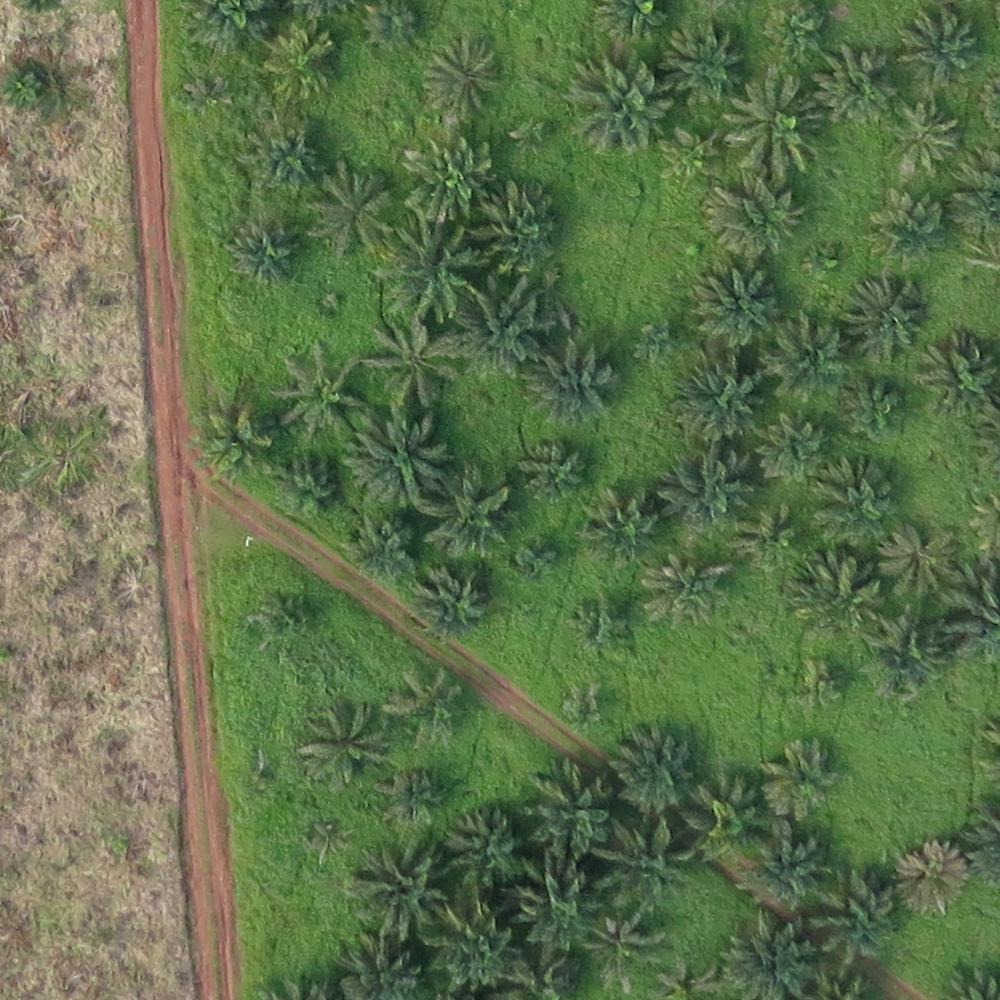Palm: (730, 69, 828, 176), (378, 223, 474, 321), (568, 56, 666, 151), (345, 411, 441, 507), (457, 276, 549, 374), (348, 838, 441, 934), (786, 547, 883, 634), (427, 905, 523, 992), (523, 761, 610, 857), (368, 322, 465, 408), (512, 866, 604, 956), (806, 875, 901, 961), (422, 467, 515, 554), (718, 910, 812, 996), (664, 447, 755, 535), (600, 823, 691, 911), (280, 341, 367, 433), (440, 806, 533, 891), (704, 174, 797, 258), (307, 162, 395, 249), (470, 181, 558, 268), (608, 726, 698, 810), (678, 355, 766, 439), (808, 459, 896, 543), (292, 704, 383, 784), (401, 133, 488, 216), (739, 827, 831, 904), (812, 42, 896, 126), (868, 617, 953, 700), (839, 276, 924, 357), (694, 264, 780, 344), (898, 7, 980, 89), (642, 554, 727, 633), (191, 407, 277, 484), (867, 189, 947, 271), (575, 486, 661, 562), (767, 312, 844, 396), (584, 910, 664, 989), (923, 333, 997, 415), (344, 510, 421, 588), (530, 347, 613, 419), (422, 39, 498, 117), (269, 450, 342, 531), (668, 23, 744, 100), (888, 843, 968, 916), (415, 565, 490, 642), (388, 667, 465, 742), (684, 779, 763, 851), (761, 746, 840, 817), (246, 119, 323, 191), (880, 527, 956, 596), (754, 408, 827, 479), (264, 28, 337, 96), (890, 100, 957, 172), (231, 215, 299, 285), (517, 440, 587, 508), (841, 372, 905, 441), (756, 5, 828, 66)
